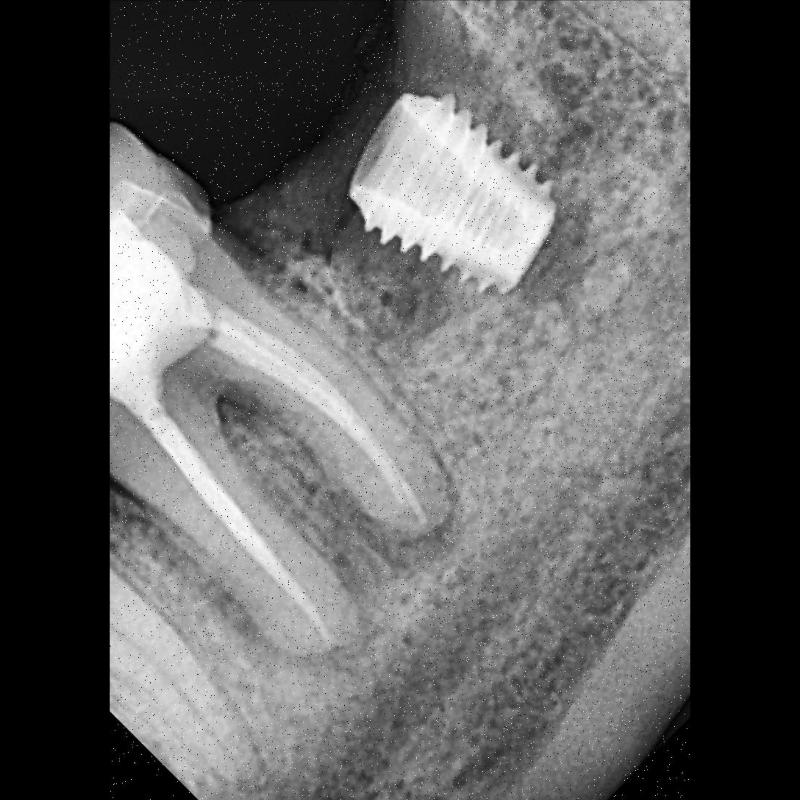osstem: (334, 84, 566, 296)
